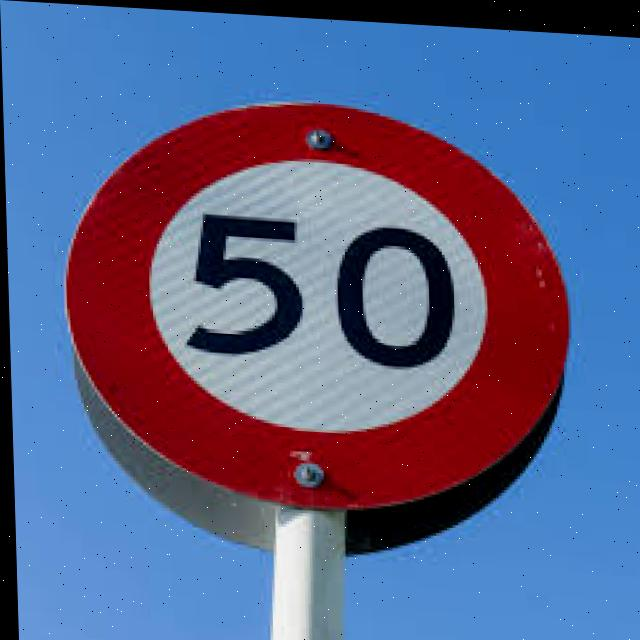Speed limit 50: (56, 80, 578, 547)
